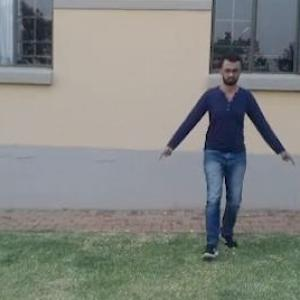land: (160, 49, 299, 260)
